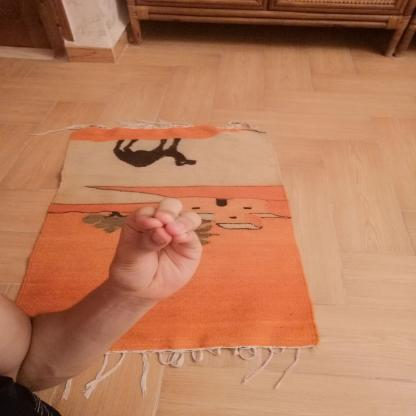HA: (90, 187, 221, 310)
